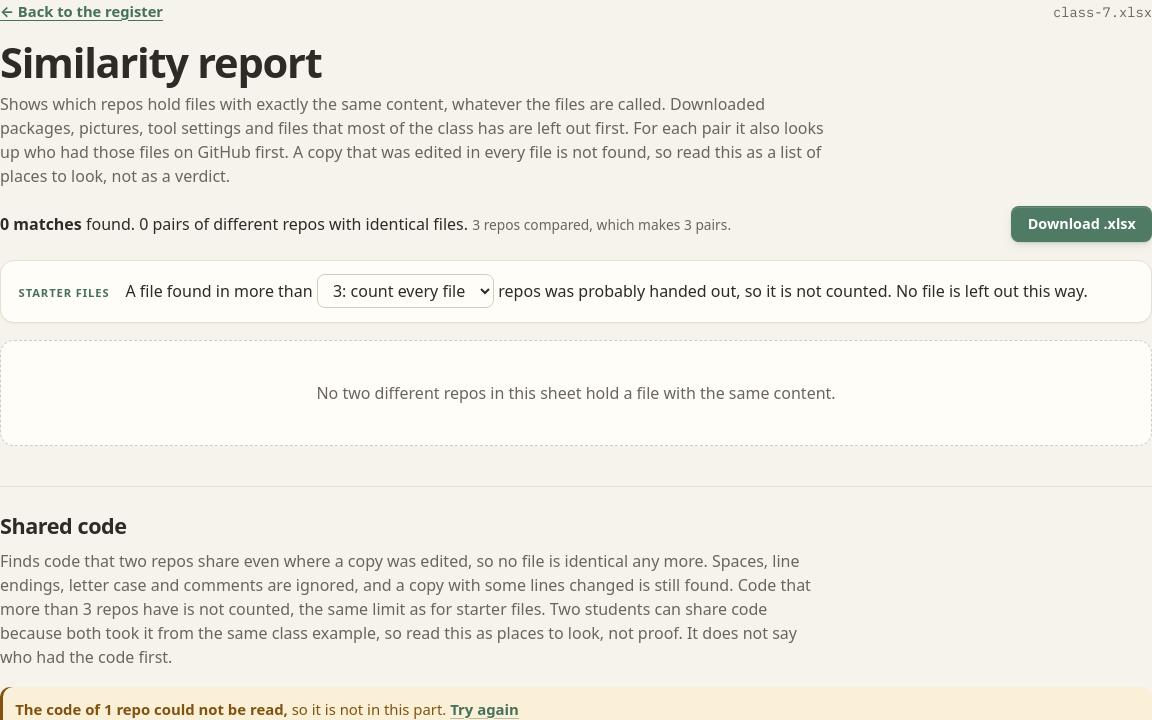
Test: SharedCode › says whose code could not be read, and tries again on request
Step 1. Click the button "Try again" → (485, 709), box 450,698 -> 519,719
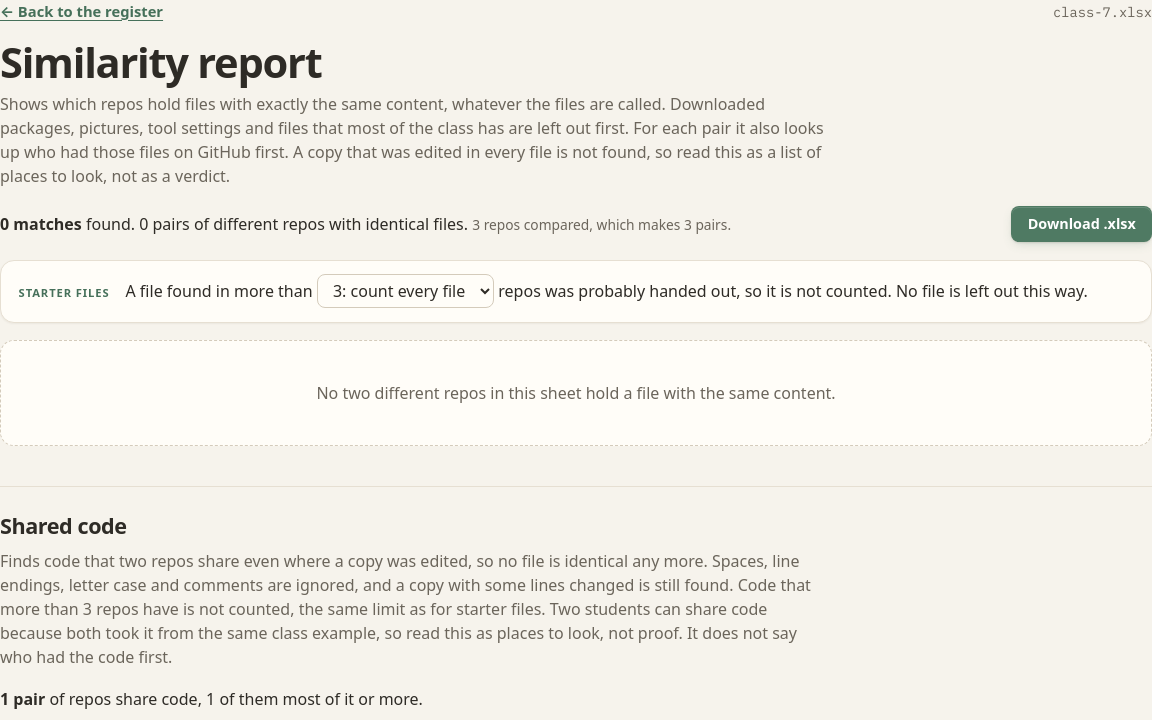
Check: the text "1 pair of repos share code, 1 of them most of it or more." is shown, box 0,688 -> 423,710
Check: the text "could not be read" is gone
